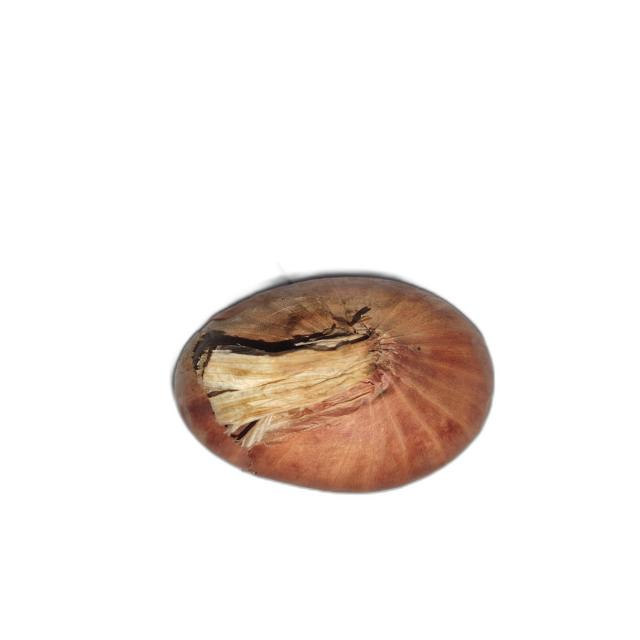onion: (168, 271, 497, 497)
